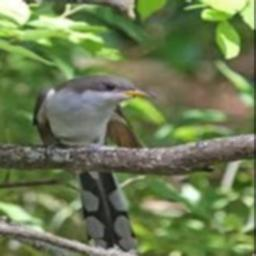Cuckoo: (34, 73, 156, 250)
